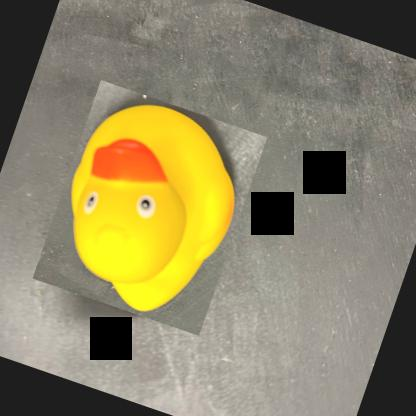duck: (32, 80, 268, 336)
